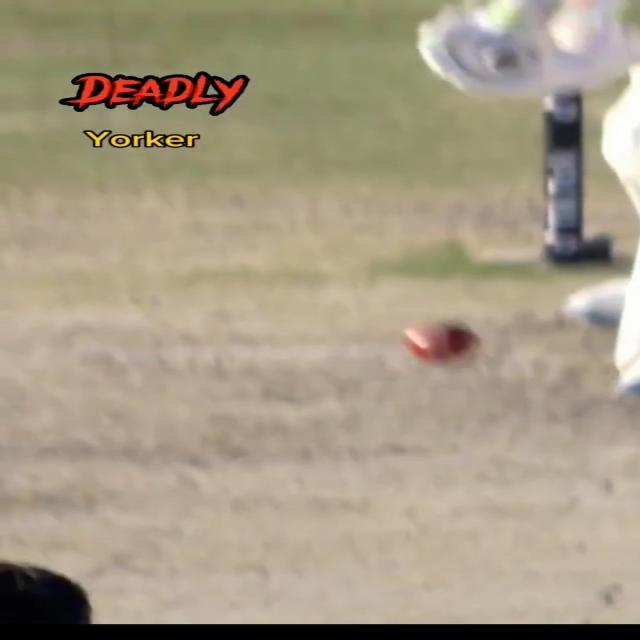Cricket ball: (401, 316, 484, 366)
